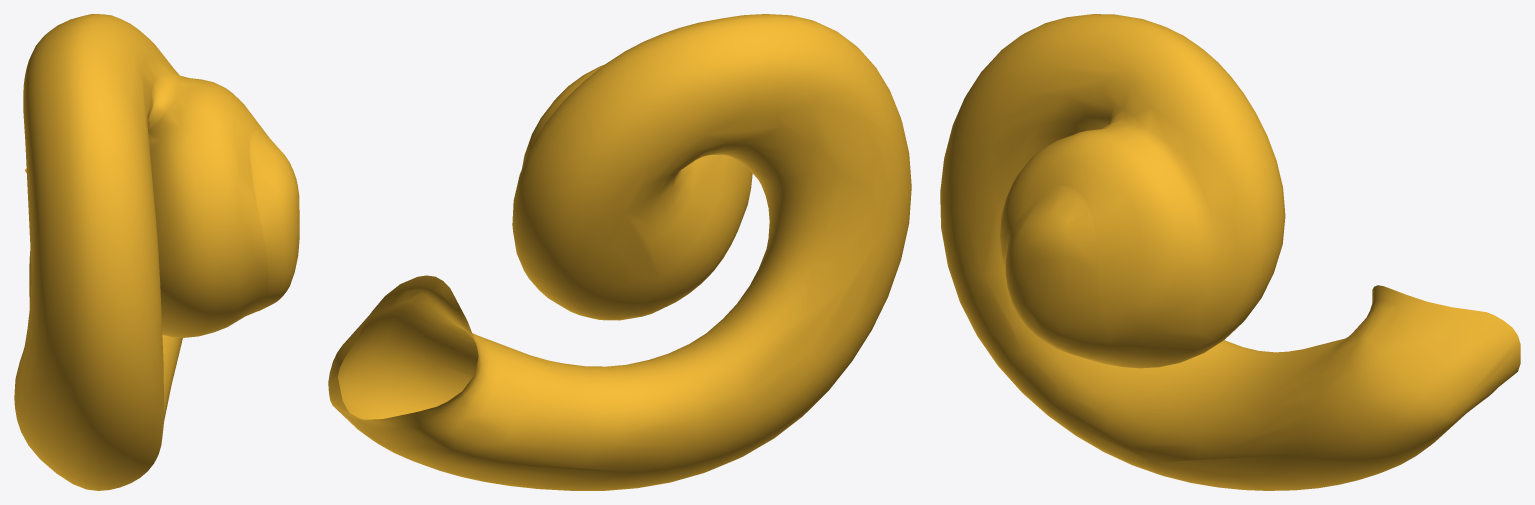
File: nervoso-cochlea-l.glb
The picture shows the model from 3 angles, left to right: view 1: azimuth 30°, elevation 25°; view 2: azimuth 150°, elevation 25°; view 3: azimuth 270°, elevation 25°; orthographic projection. The views are drawn at different scales.
Parts seen in each view (by area): view 1: Cochlea.l; view 2: Cochlea.l; view 3: Cochlea.l.
Boxes of the visible parts, box(x1,y1,x2,y2) form: Cochlea.l: box(14, 14, 299, 490); Cochlea.l: box(328, 14, 911, 490); Cochlea.l: box(940, 14, 1520, 490).
Size of the model in its own units: 0.00644 by 0.008 by 0.00983.
